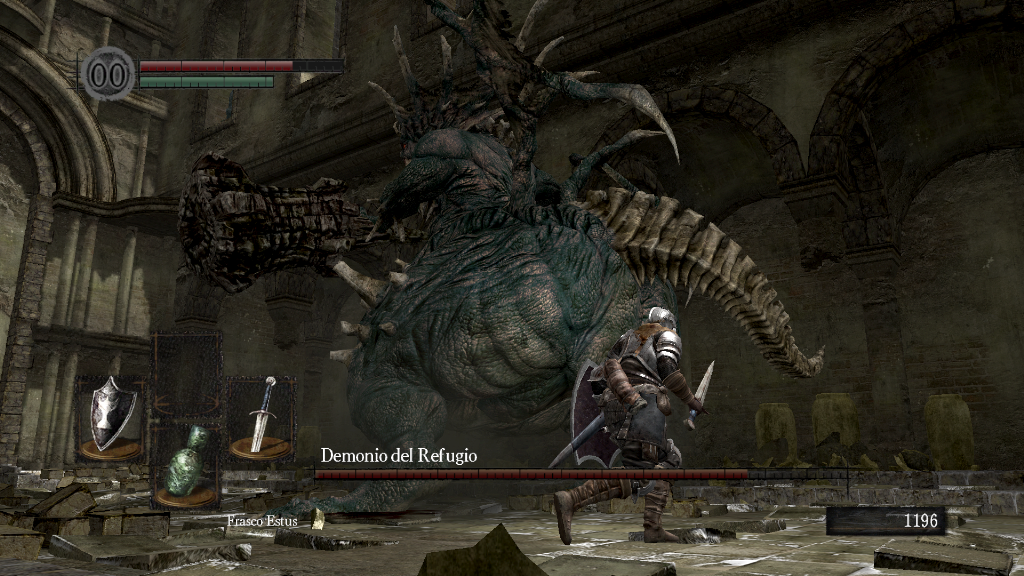asylumDemon: (176, 2, 828, 521)
bossHP: (314, 469, 847, 479)
health: (138, 58, 343, 71)
humanity: (80, 45, 136, 102)
player: (557, 306, 717, 543)
souls: (825, 506, 945, 536)
stamina: (138, 74, 274, 88)
